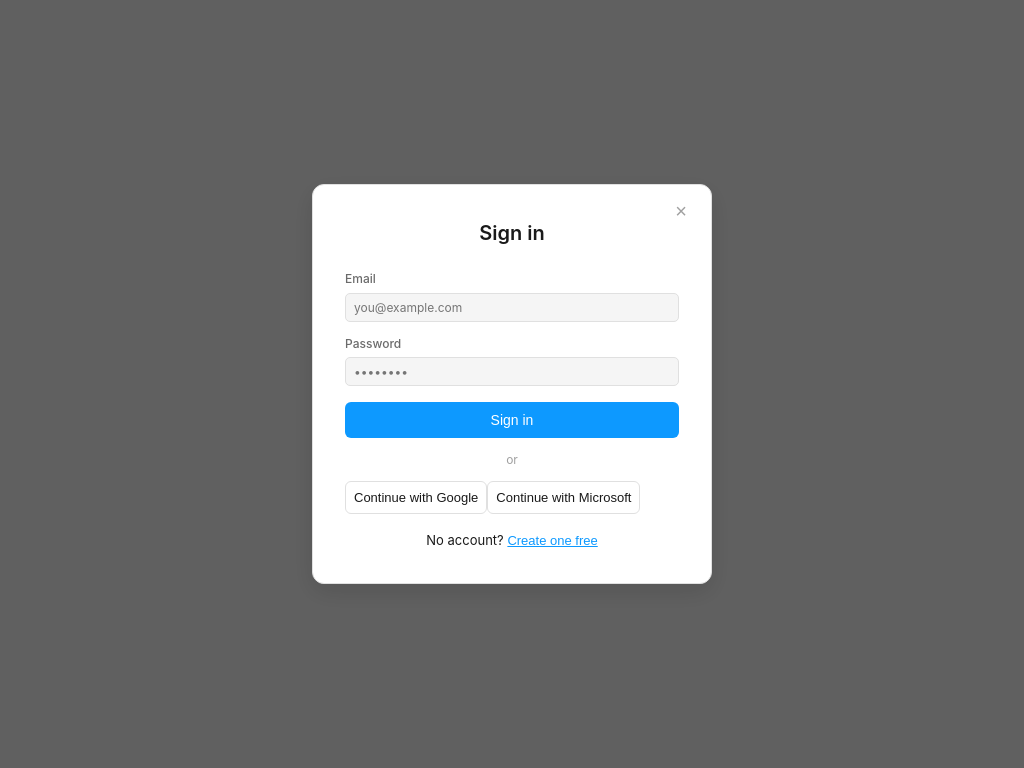
Scenario: T-AUTH-008 / T-AUTH-009 / T-AUTH-010: AuthModal OAuth providers › T-AUTH-010: when Google sign-in fails, shows error message
Click the button "Continue with Google".
click(416, 497)  # box [345,481,487,514]
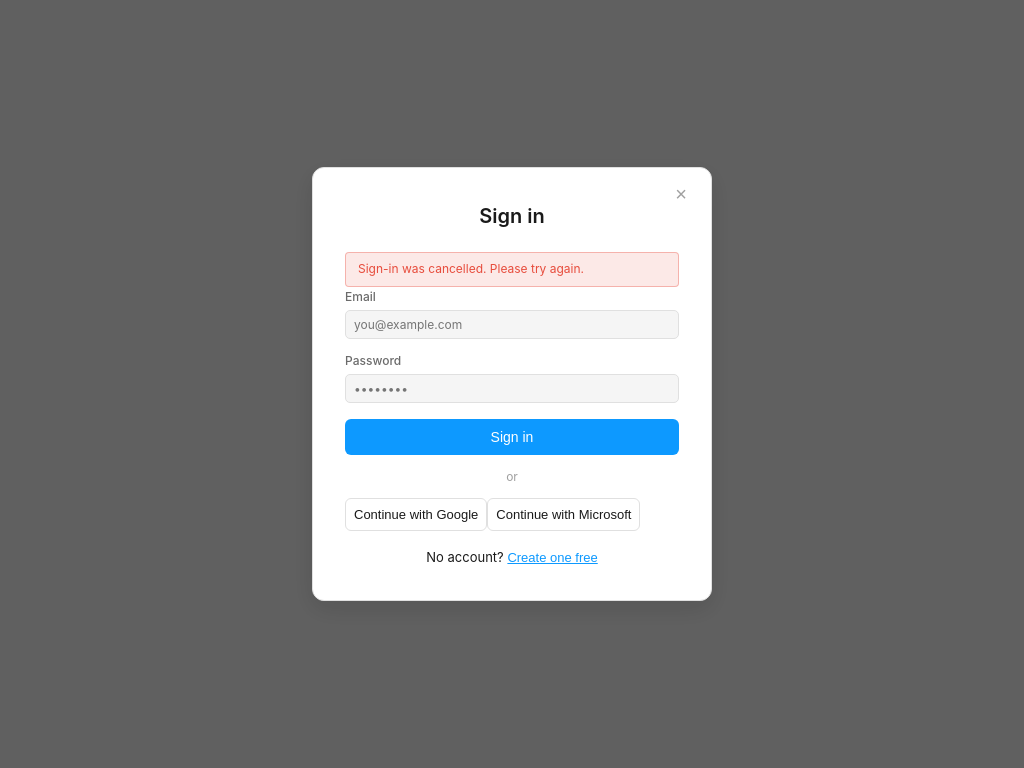
Now the message "Sign-in was cancelled. Please try again." is shown, box [345,252,679,287]
Now the message shows "cancelled", box [358,261,584,276]
